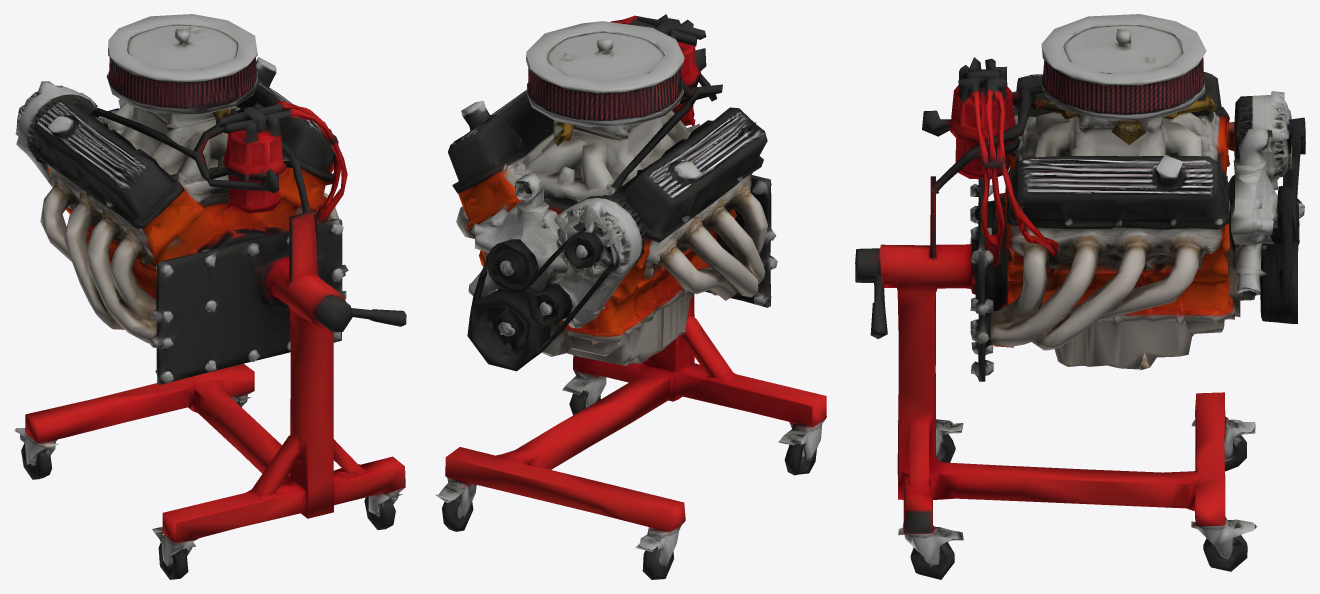
File: engine_stand.glb
3 renders of one model, left to right at view 1: azimuth 30°, elevation 25°; view 2: azimuth 150°, elevation 25°; view 3: azimuth 270°, elevation 25°, orthographic. The views are drawn at different scales.
Parts seen in each view (by area): view 1: tripo_node_34dbd672-12b2-4d1f-b14b-ffcc33b07970; view 2: tripo_node_34dbd672-12b2-4d1f-b14b-ffcc33b07970; view 3: tripo_node_34dbd672-12b2-4d1f-b14b-ffcc33b07970.
Boxes of the visible parts, x1,y1,x2,y2 form: tripo_node_34dbd672-12b2-4d1f-b14b-ffcc33b07970: (14,14,406,579); tripo_node_34dbd672-12b2-4d1f-b14b-ffcc33b07970: (435,14,826,579); tripo_node_34dbd672-12b2-4d1f-b14b-ffcc33b07970: (855,14,1305,579).
Bounding box in the file's own units: 0.4652 × 0.85 × 0.7089.
Materials: 1 (1 with a texture image).
